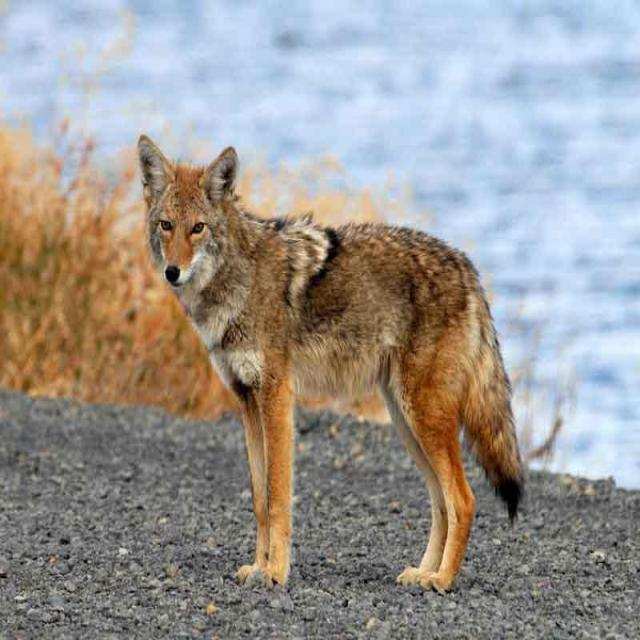Coyote: (127, 122, 535, 598)
